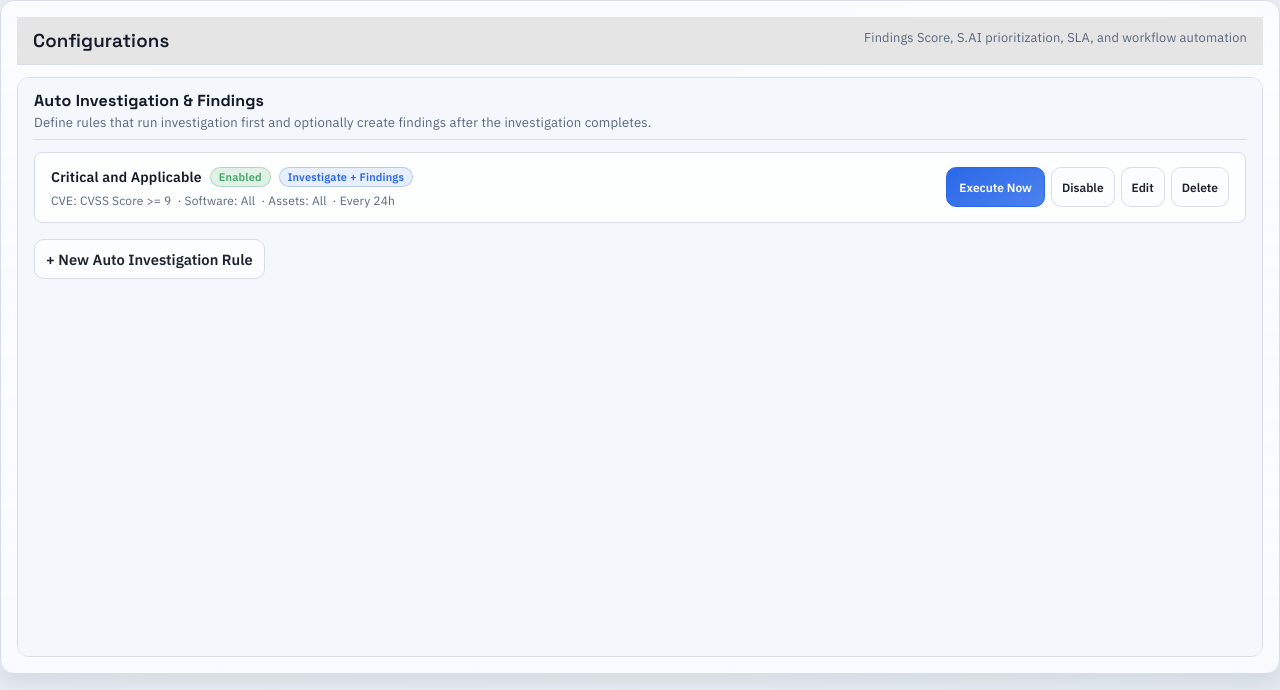
Test case: ConfigurationsPage › renders the starter auto-finding rule out of the box
Step 1. Click the button "Edit" → x=1143, y=187, box [1121, 167, 1165, 207]
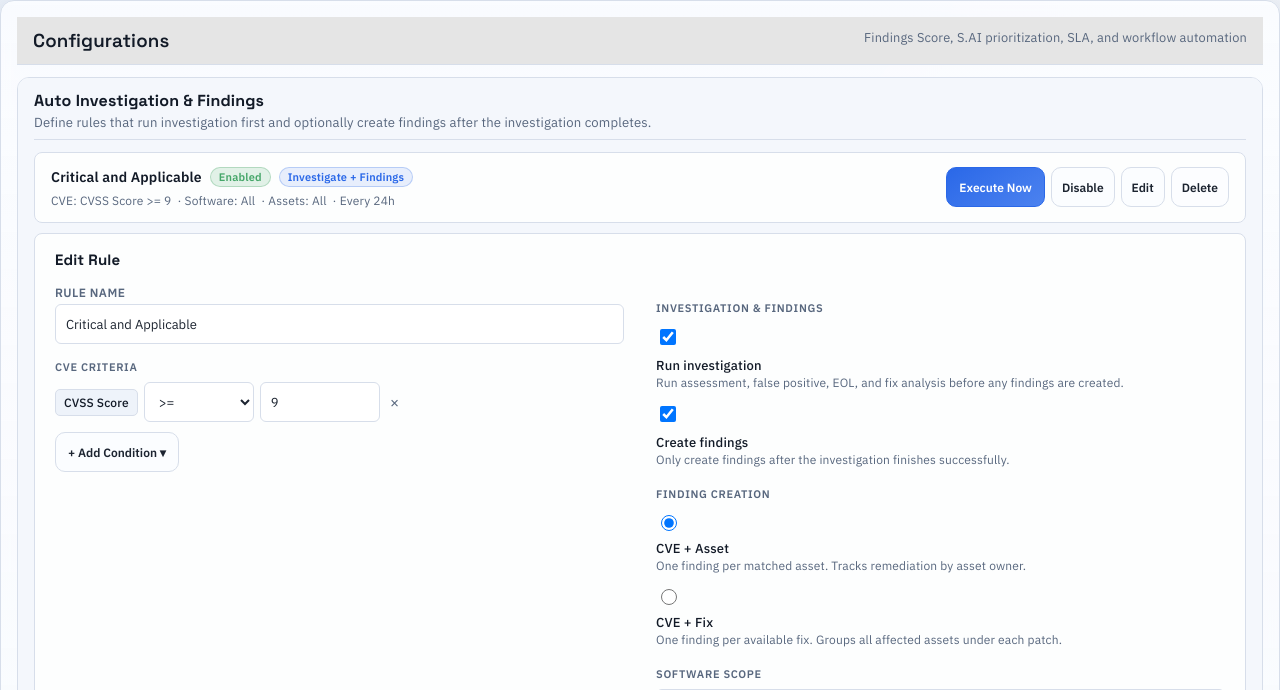
Expected: the text "Critical and Applicable" is shown, [51, 168, 202, 186]
Expected: the checkbox labelled "Run investigation" is shown, [660, 329, 676, 345]
Expected: the checkbox labelled "Create findings" is shown, [660, 406, 676, 422]
